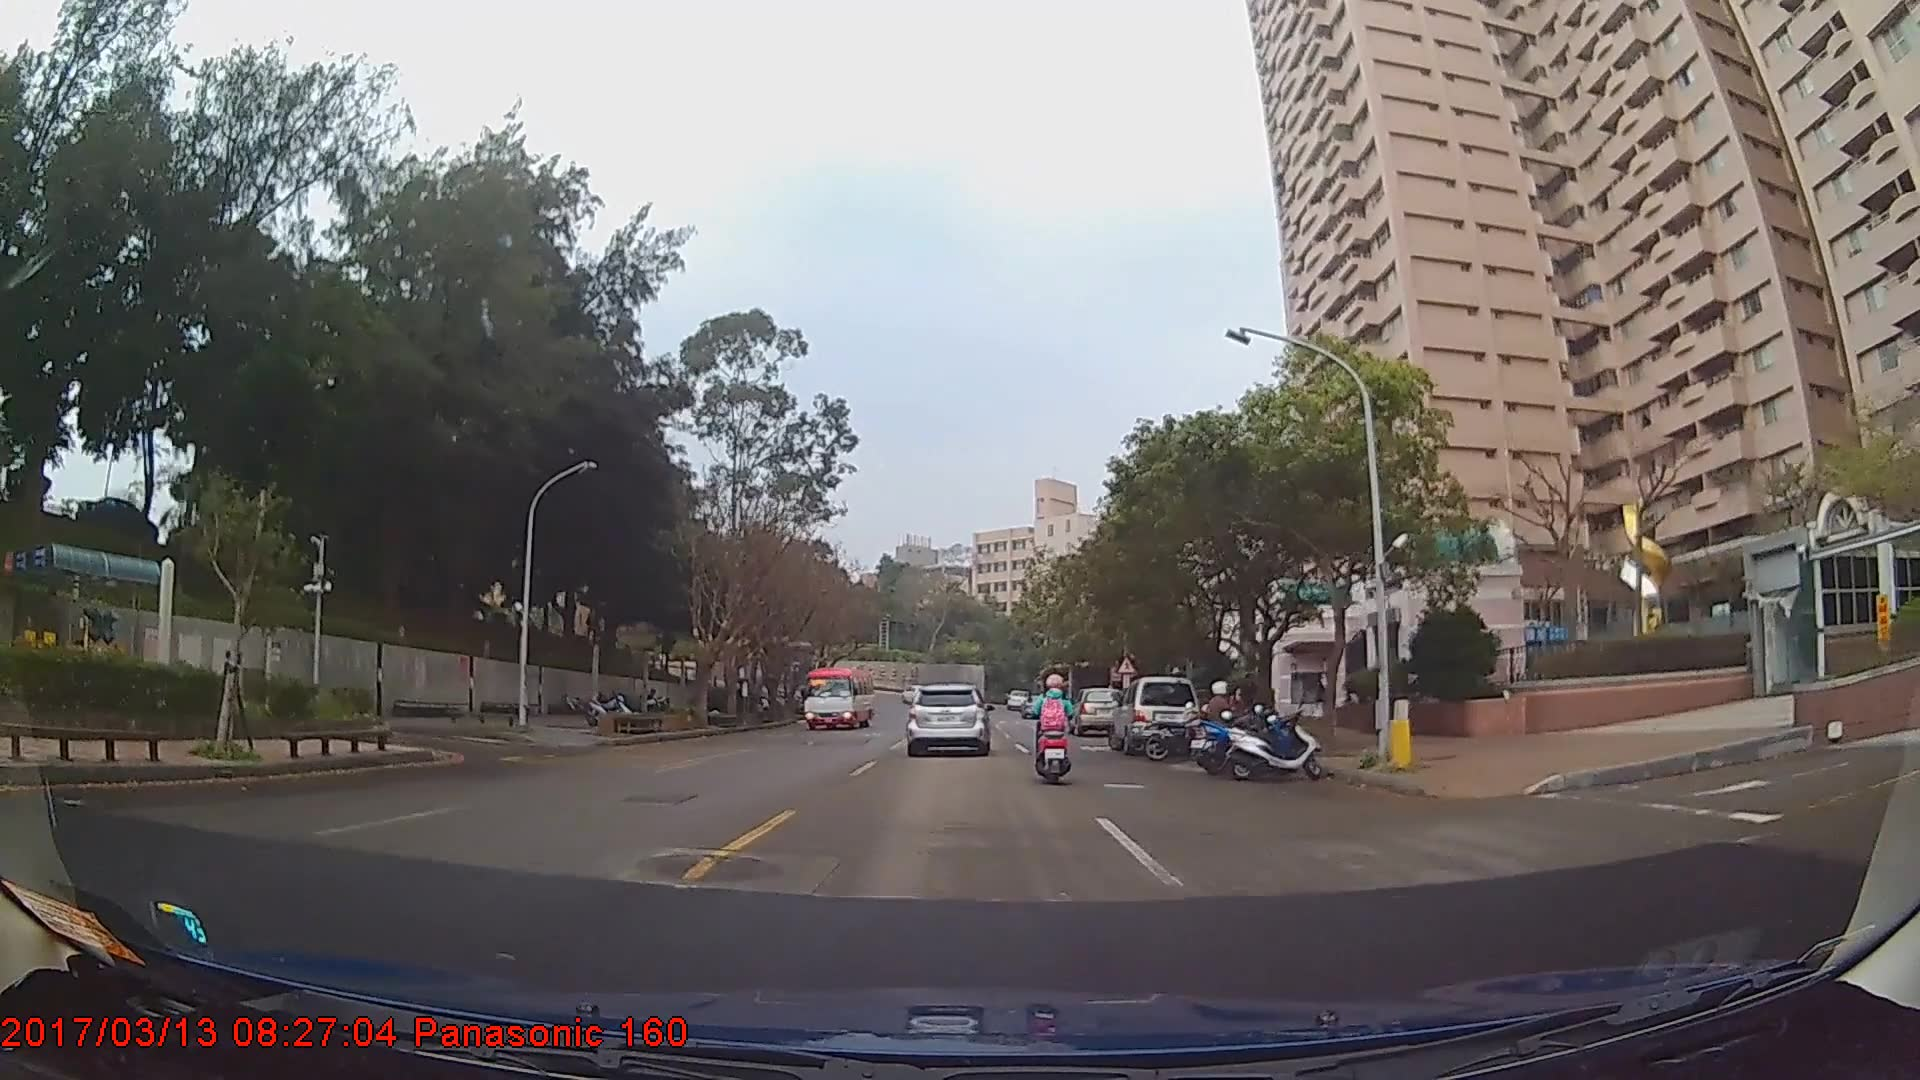rider: (1034, 672, 1082, 790), (1195, 679, 1245, 767)
vehicle: (1108, 675, 1200, 754), (905, 682, 989, 759), (802, 664, 875, 730), (1071, 686, 1125, 735)
